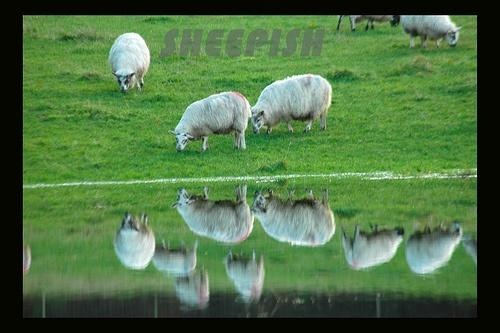sheep: (256, 185, 344, 249), (174, 88, 252, 157), (250, 71, 335, 134), (172, 188, 256, 249), (404, 221, 467, 277), (340, 219, 405, 272), (107, 31, 155, 100), (115, 211, 157, 273), (402, 16, 464, 53)
